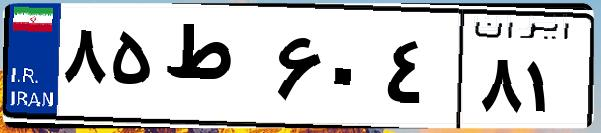0: (330, 28, 385, 110)
1: (525, 38, 570, 115)
4: (385, 28, 445, 110)
5: (110, 28, 158, 98)
6: (270, 28, 330, 110)
8: (57, 26, 110, 100), (475, 38, 525, 113)
ط: (158, 20, 270, 120)
